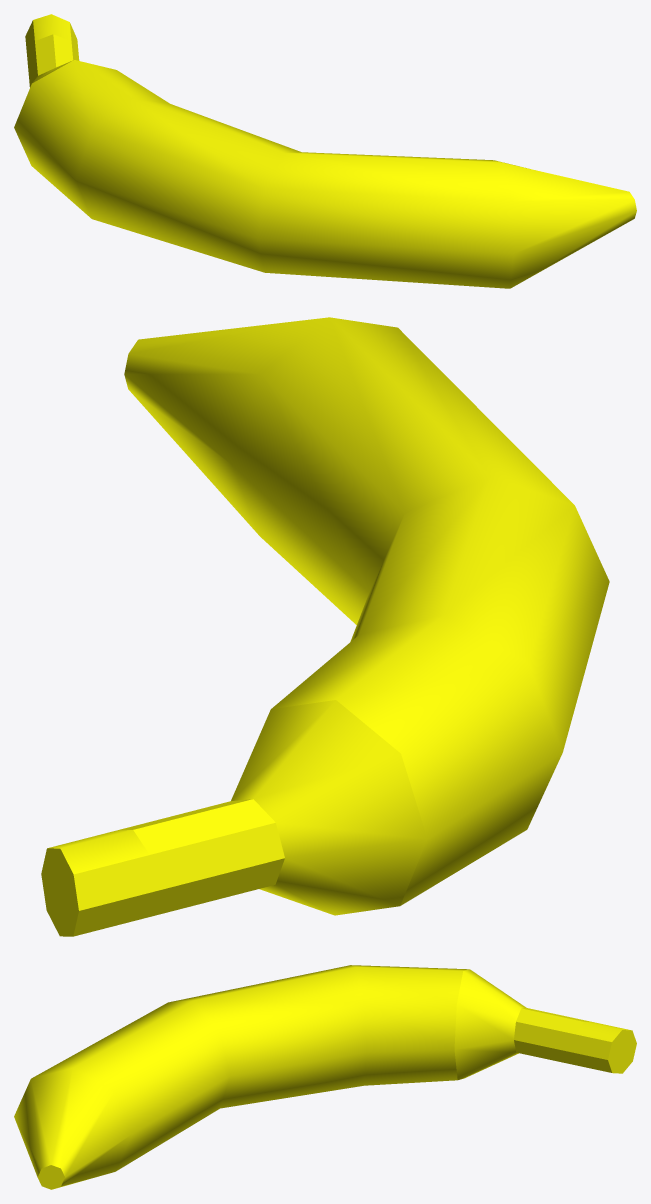
Rendered from Produce_BananaPepper.fbx.
The picture shows the model from 3 angles, top to bottom: view 1: azimuth 30°, elevation 25°; view 2: azimuth 150°, elevation 25°; view 3: azimuth 270°, elevation 25°; orthographic projection. The views are drawn at different scales.
Parts seen in each view (by area): view 1: Banana; view 2: Banana; view 3: Banana.
Boxes of the visible parts, <box> form: Banana: <box>14,14,636,288</box>; Banana: <box>41,317,609,936</box>; Banana: <box>14,965,636,1189</box>.
Bounding box in the file's own units: 16.46 × 5.15 × 24.6.
